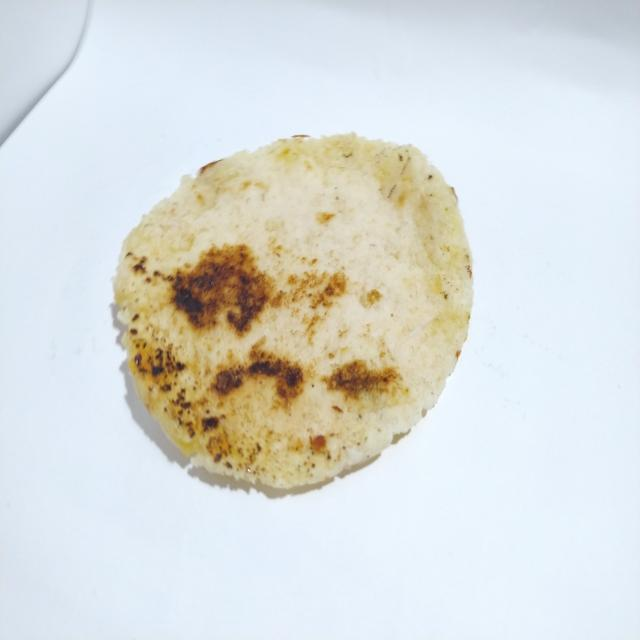Food: (102, 124, 482, 503)
